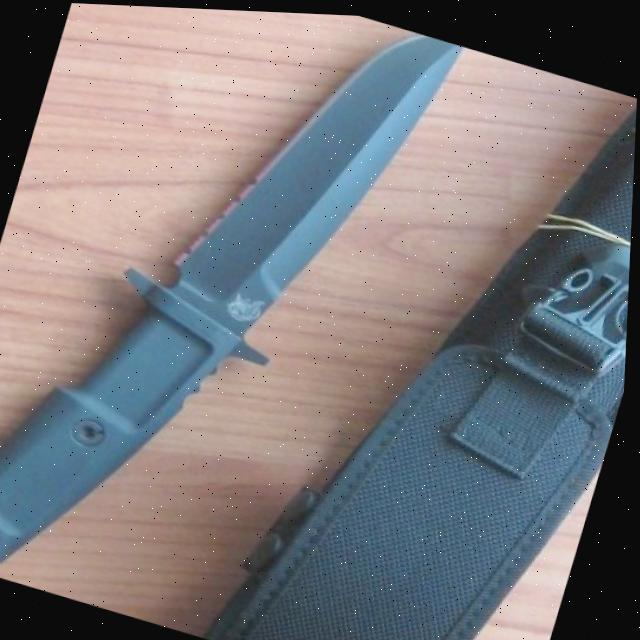knife: (0, 0, 480, 640)
